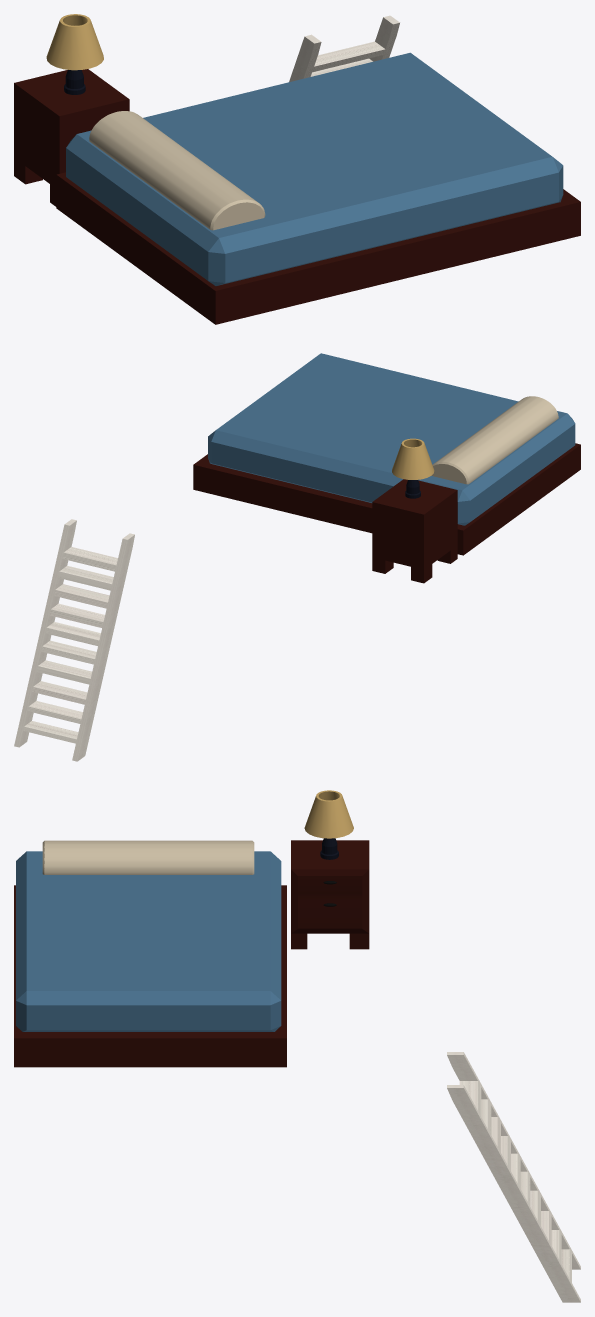
File: BedRoomSet.dae
3 renders of one model, top to bottom at view 1: azimuth 30°, elevation 25°; view 2: azimuth 150°, elevation 25°; view 3: azimuth 270°, elevation 25°, orthographic. The views are drawn at different scales.
Visible parts, largest first — view 1: polySurface337; view 2: polySurface337; view 3: polySurface337.
Boxes of the visible parts, box(x1,y1,x2,y2) form: polySurface337: box(14, 14, 580, 324); polySurface337: box(14, 353, 580, 761); polySurface337: box(14, 790, 580, 1302).
Bounding box in the file's own units: 44.8 × 39.05 × 58.68.
